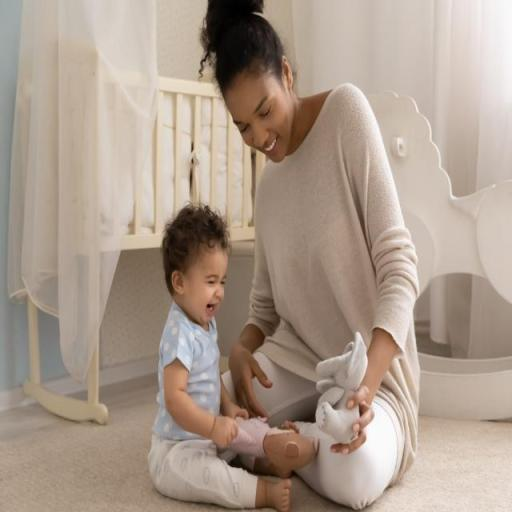baby: (148, 205, 291, 511)
crib: (97, 77, 264, 251)
